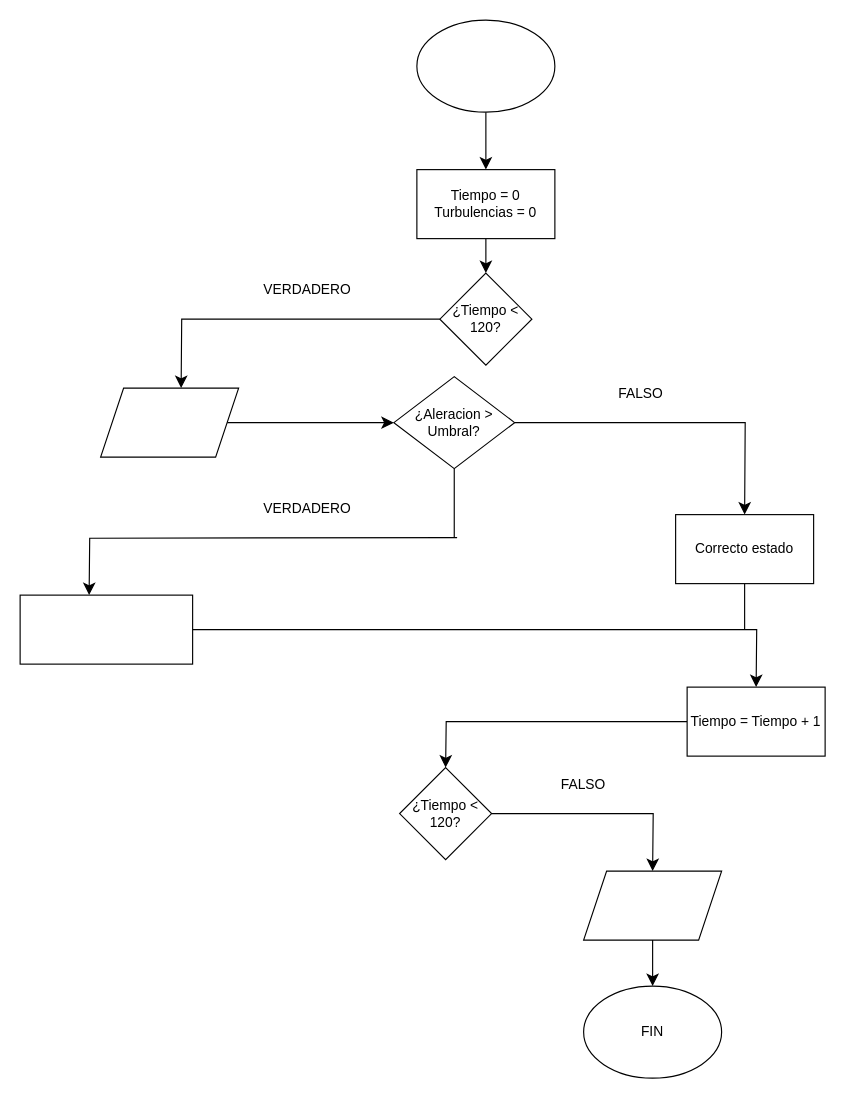
Image size: 845x1098. Some labels were removed from this diagram. Each missing label, with the centre of its shape:
"INICIO" goes at (x=485, y=65).
"Leer aceleracion" goes at (x=169, y=422).
"Mostrar turbulencias" goes at (x=652, y=905).
"Turbulencia detectada Turbulencias = Turbulencias + 1" goes at (x=106, y=629).
